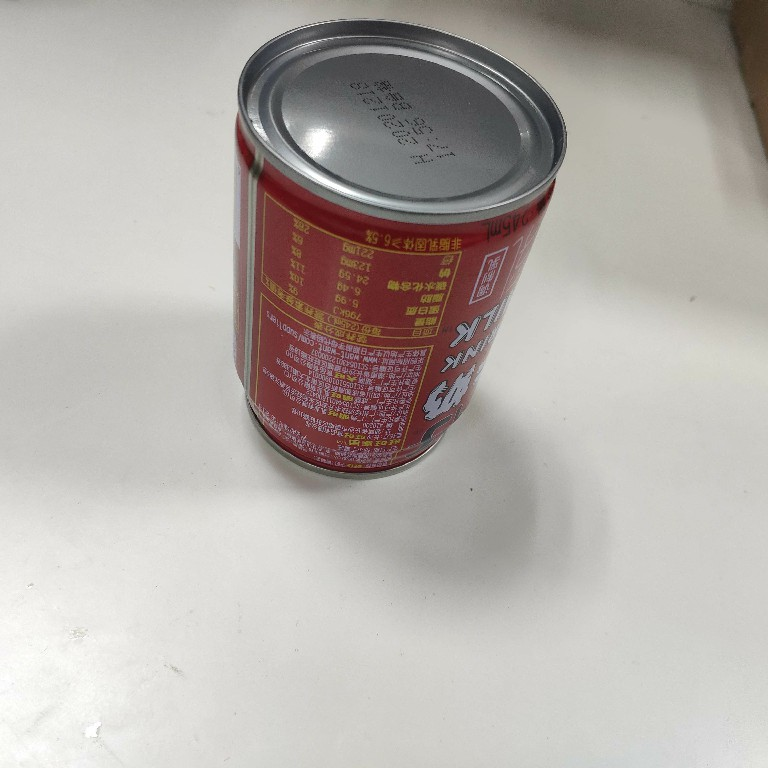can: (225, 15, 571, 487)
